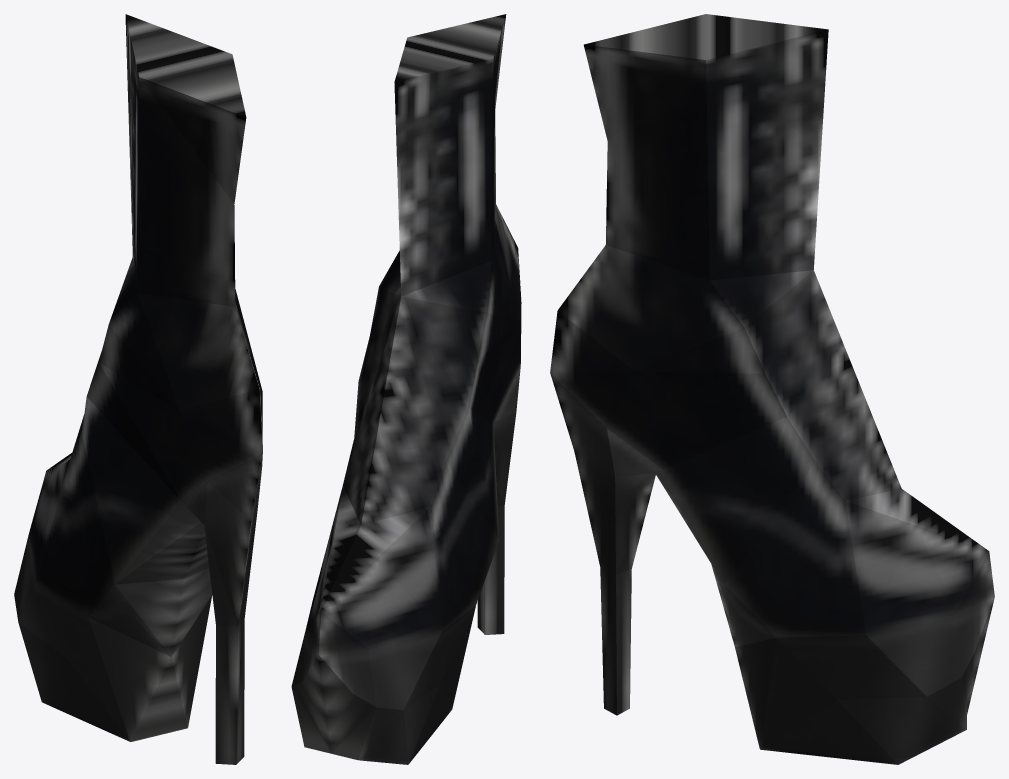
Rendered from boot.fbx.
3 views of the same model, side by side, from view 1: azimuth 30°, elevation 25°; view 2: azimuth 150°, elevation 25°; view 3: azimuth 270°, elevation 25° (orthographic). The views are drawn at different scales.
Parts seen in each view (by area): view 1: Boot; view 2: Boot; view 3: Boot.
Boxes of the visible parts, x1,y1,x2,y2 form: Boot: [14, 14, 262, 764]; Boot: [291, 14, 521, 764]; Boot: [550, 14, 994, 764].
Size of the model in its own units: 40.11 by 193 by 109.
Materials: 1 (1 with a texture image).
